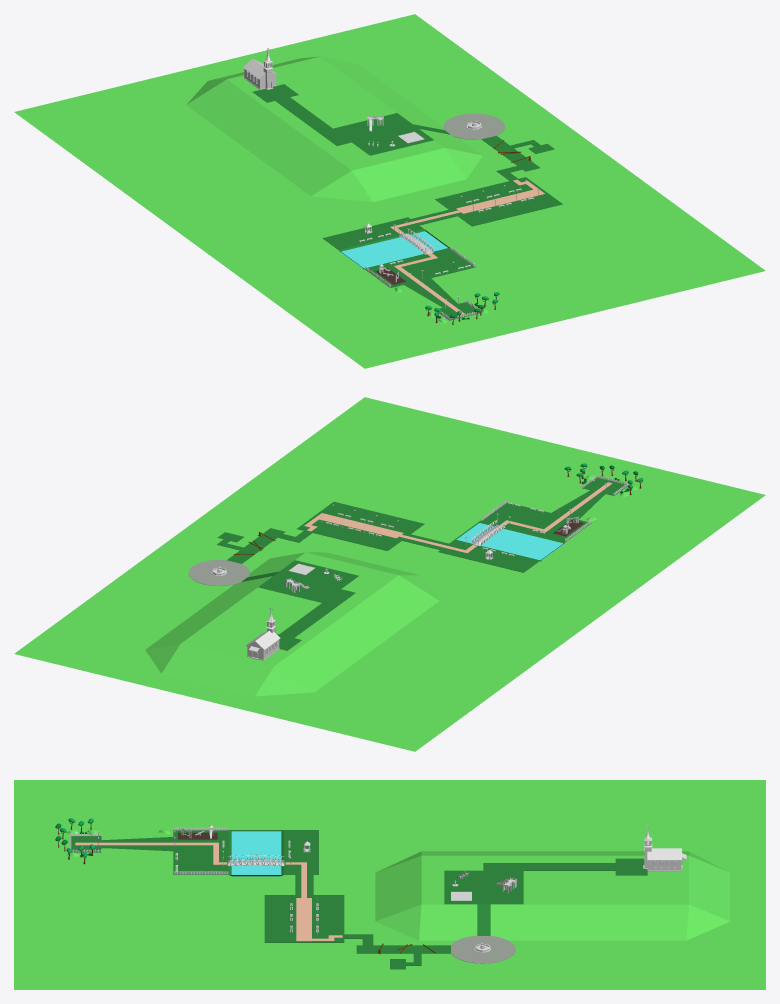
The model's file is blockinglvl2.glb.
3 renders of one model, top to bottom at view 1: azimuth 30°, elevation 25°; view 2: azimuth 150°, elevation 25°; view 3: azimuth 270°, elevation 25°, orthographic. The views are drawn at different scales.
Visible parts, largest first — view 1: Cesped-col, Suelo3-col, Suelo5-col, Suelo14-col, Litoral.004, Suelo12-col, Suelo15-col, church-col, Suelo8-col, Litoral7-col, Suelo2-col; view 2: Cesped-col, Suelo3-col, Suelo5-col, Suelo14-col, Litoral.004, Suelo12-col, Suelo15-col, church-col, Suelo8-col, Litoral7-col, Suelo2-col; view 3: Cesped-col, Suelo3-col, Suelo5-col, Suelo14-col, Litoral.004, Suelo12-col, Suelo15-col, church-col, Suelo8-col, Suelo2-col, Litoral7-col, litoral-col (+4 smaller).
Part boxes in pixels (bbox=[...]): Cesped-col: bbox=[14, 14, 765, 368]; Suelo3-col: bbox=[322, 217, 475, 287]; Suelo5-col: bbox=[435, 177, 562, 226]; Suelo14-col: bbox=[333, 113, 433, 155]; Litoral.004: bbox=[340, 231, 447, 269]; Suelo12-col: bbox=[443, 113, 504, 139]; Suelo15-col: bbox=[275, 97, 351, 145]; church-col: bbox=[243, 48, 277, 89]; Suelo8-col: bbox=[482, 135, 539, 171]; Litoral7-col: bbox=[456, 188, 544, 213]; Suelo2-col: bbox=[404, 278, 457, 307]; Cesped-col: bbox=[14, 397, 765, 751]; Suelo3-col: bbox=[438, 502, 591, 572]; Suelo5-col: bbox=[297, 501, 424, 550]; Suelo14-col: bbox=[258, 560, 358, 602]; Litoral.004: bbox=[456, 523, 564, 561]; Suelo12-col: bbox=[188, 560, 249, 586]; Suelo15-col: bbox=[279, 589, 355, 637]; church-col: bbox=[246, 607, 280, 660]; Suelo8-col: bbox=[227, 528, 285, 563]; Litoral7-col: bbox=[315, 513, 403, 538]; Suelo2-col: bbox=[551, 490, 605, 519]; Cesped-col: bbox=[14, 780, 765, 989]; Suelo3-col: bbox=[173, 830, 318, 875]; Suelo5-col: bbox=[264, 895, 344, 942]; Suelo14-col: bbox=[444, 870, 523, 904]; Litoral.004: bbox=[231, 831, 281, 876]; Suelo12-col: bbox=[451, 935, 515, 963]; Suelo15-col: bbox=[483, 863, 615, 870]; church-col: bbox=[643, 824, 686, 871]; Suelo8-col: bbox=[356, 945, 450, 953]; Suelo2-col: bbox=[101, 837, 173, 851]; Litoral7-col: bbox=[296, 898, 311, 941]; litoral-col: bbox=[75, 842, 218, 845].
Bounding box in the file's own units: 375 × 52.63 × 568.
92 materials, 28 textured.
